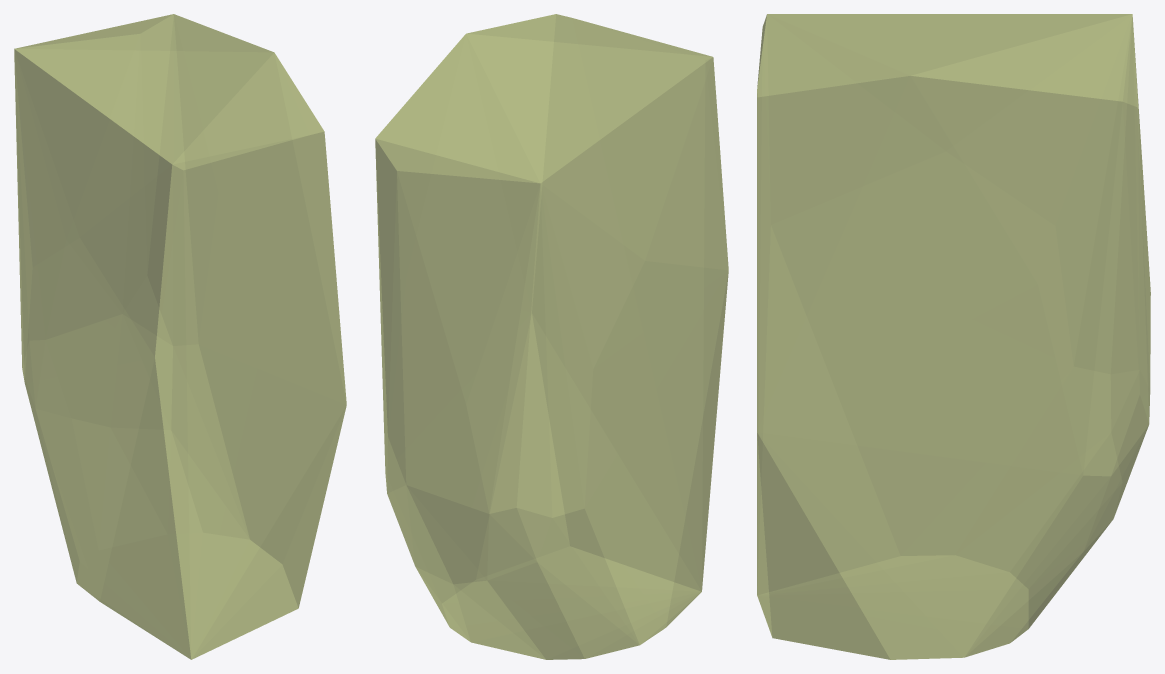
3 renders of one model, left to right at view 1: azimuth 30°, elevation 25°; view 2: azimuth 150°, elevation 25°; view 3: azimuth 270°, elevation 25°, orthographic. The views are drawn at different scales.
Parts seen in each view (by area): view 1: Shape_IndexedFaceSet.002_Shape_IndexedFaceSet.16772; view 2: Shape_IndexedFaceSet.002_Shape_IndexedFaceSet.16772; view 3: Shape_IndexedFaceSet.002_Shape_IndexedFaceSet.16772.
Part boxes in pixels (box(x1,y1,x2,y2)): Shape_IndexedFaceSet.002_Shape_IndexedFaceSet.16772: box(14, 14, 346, 659); Shape_IndexedFaceSet.002_Shape_IndexedFaceSet.16772: box(375, 14, 728, 659); Shape_IndexedFaceSet.002_Shape_IndexedFaceSet.16772: box(757, 14, 1150, 659).
Size of the model in its own units: 0.1884 by 0.5058 by 0.2988.
